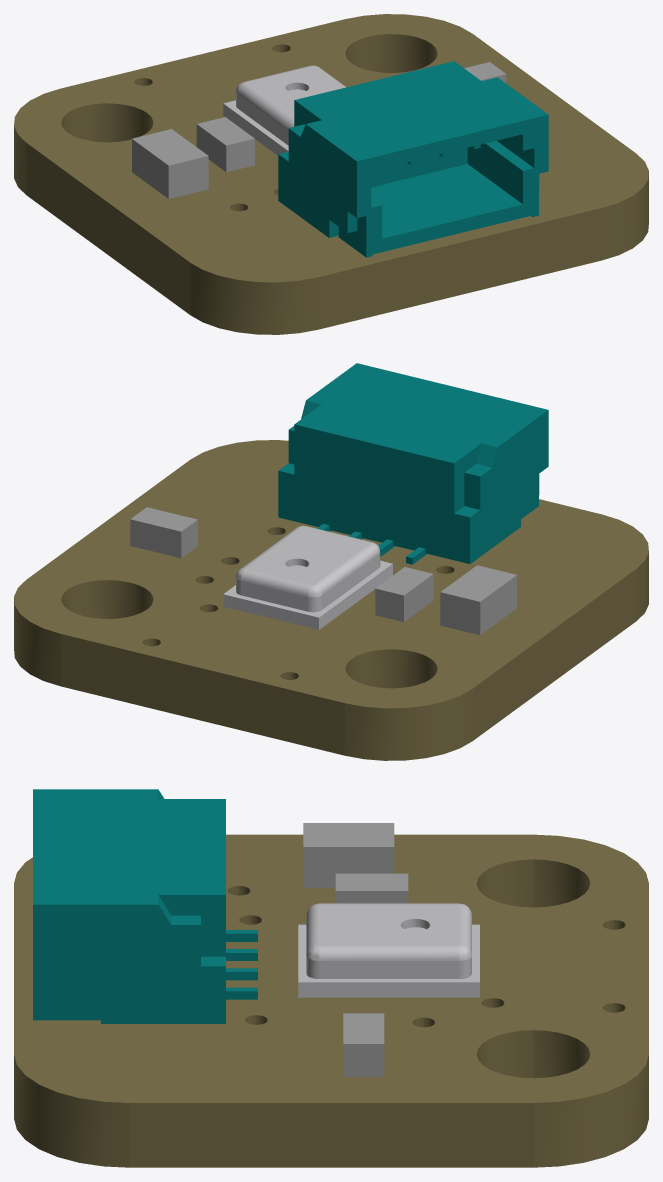
Rendered from ada-4346.glb.
3 views of the same model, one above another, from view 1: azimuth 30°, elevation 25°; view 2: azimuth 150°, elevation 25°; view 3: azimuth 270°, elevation 25° (orthographic). The views are drawn at different scales.
Visible parts, largest first — view 1: 0.16666666666666666_0.16666666666666666_0.08333333333333333_, 0_0.25_0.25_0, 0.3333333333333333_0.3333333333333333_0.3333333333333333_0, 0.5833333333333334_0.5833333333333334_0.5833333333333334_0.8; view 2: 0.16666666666666666_0.16666666666666666_0.08333333333333333_, 0_0.25_0.25_0, 0.5833333333333334_0.5833333333333334_0.5833333333333334_0.8, 0.3333333333333333_0.3333333333333333_0.3333333333333333_0; view 3: 0.16666666666666666_0.16666666666666666_0.08333333333333333_, 0_0.25_0.25_0, 0.5833333333333334_0.5833333333333334_0.5833333333333334_0.8, 0.3333333333333333_0.3333333333333333_0.3333333333333333_0.
Part boxes in pixels (x1,y1,x2,y2): 0.16666666666666666_0.16666666666666666_0.08333333333333333_: [14, 14, 648, 334]; 0_0.25_0.25_0: [278, 61, 548, 257]; 0.3333333333333333_0.3333333333333333_0.3333333333333333_0: [132, 62, 506, 198]; 0.5833333333333334_0.5833333333333334_0.5833333333333334_0.8: [223, 65, 345, 155]; 0.16666666666666666_0.16666666666666666_0.08333333333333333_: [14, 440, 648, 760]; 0_0.25_0.25_0: [278, 363, 548, 564]; 0.5833333333333334_0.5833333333333334_0.5833333333333334_0.8: [223, 525, 392, 629]; 0.3333333333333333_0.3333333333333333_0.3333333333333333_0: [130, 507, 516, 634]; 0.16666666666666666_0.16666666666666666_0.08333333333333333_: [14, 834, 648, 1167]; 0_0.25_0.25_0: [33, 789, 257, 1023]; 0.5833333333333334_0.5833333333333334_0.5833333333333334_0.8: [298, 903, 479, 997]; 0.3333333333333333_0.3333333333333333_0.3333333333333333_0: [303, 823, 408, 1076].
Bounding box in the file's own units: 1.4 × 0.453 × 1.4.
